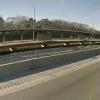Bridge: (7, 11, 92, 55)
